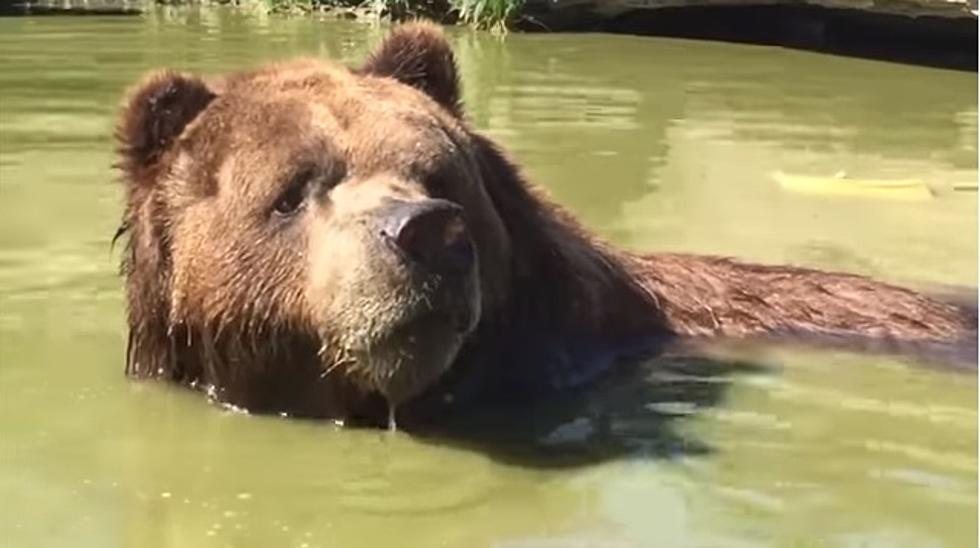bear: (114, 16, 493, 398)
